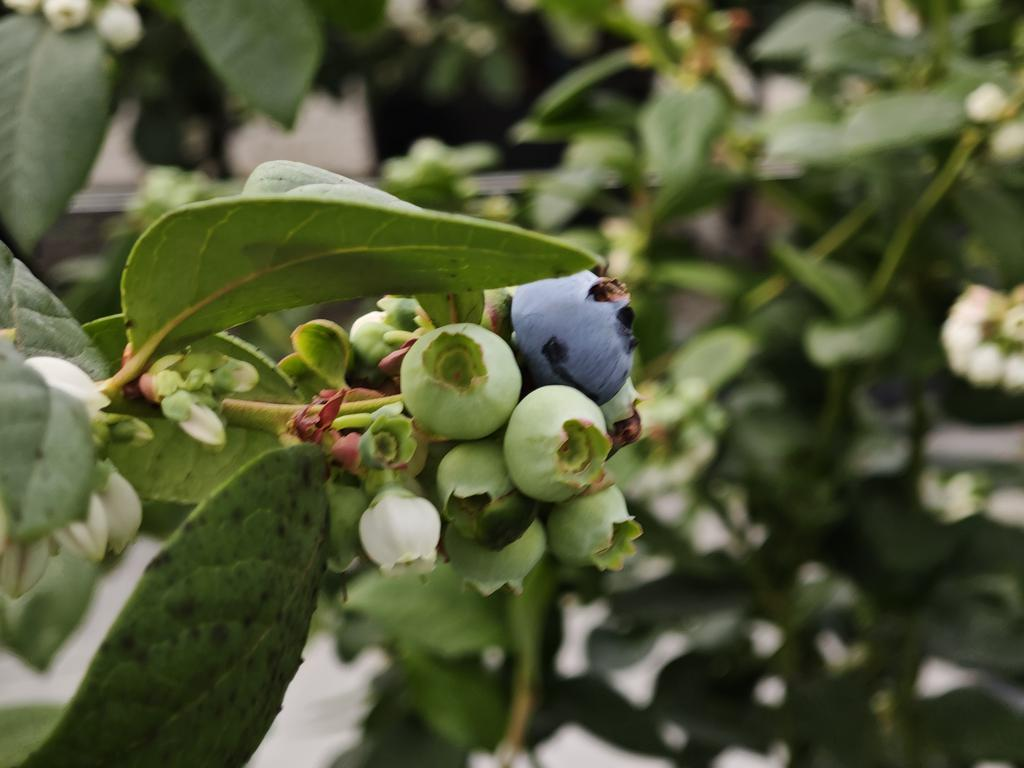RipeBlueBerry: (513, 267, 637, 404)
UnripeBlueBerry: (400, 324, 518, 442)
